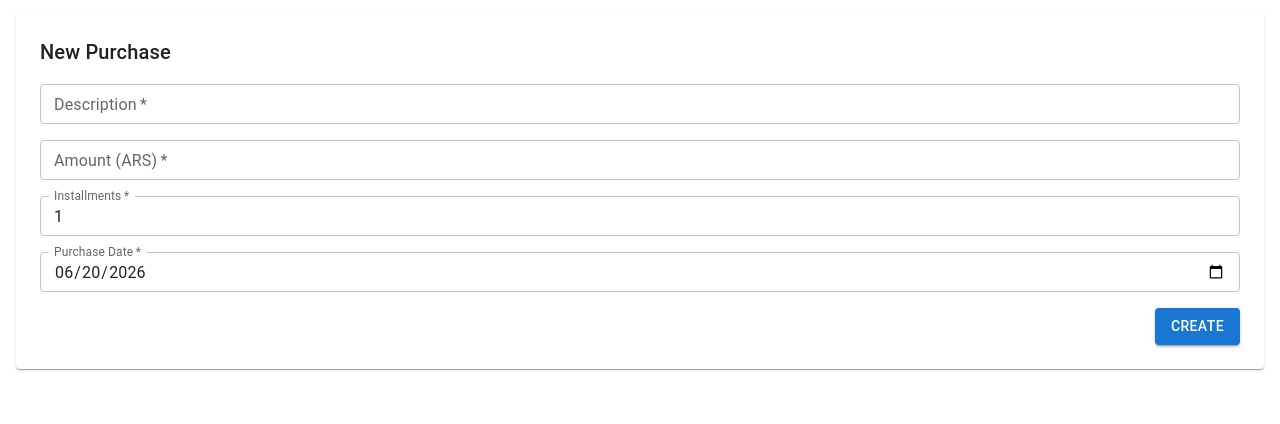
Scenario: PurchaseForm › shows validation error for invalid amount
Type "Test" into the field labelled "Description *" at point(640, 104), box [40,84,1240,124]
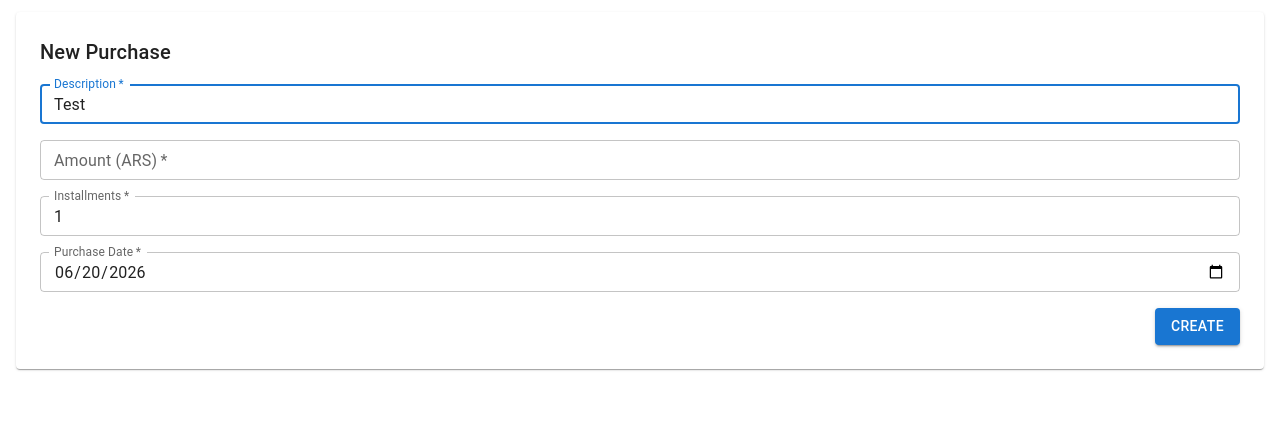
Type "-10" into the number field labelled "Amount (ARS) *" at point(640, 160), box [40,140,1240,180]
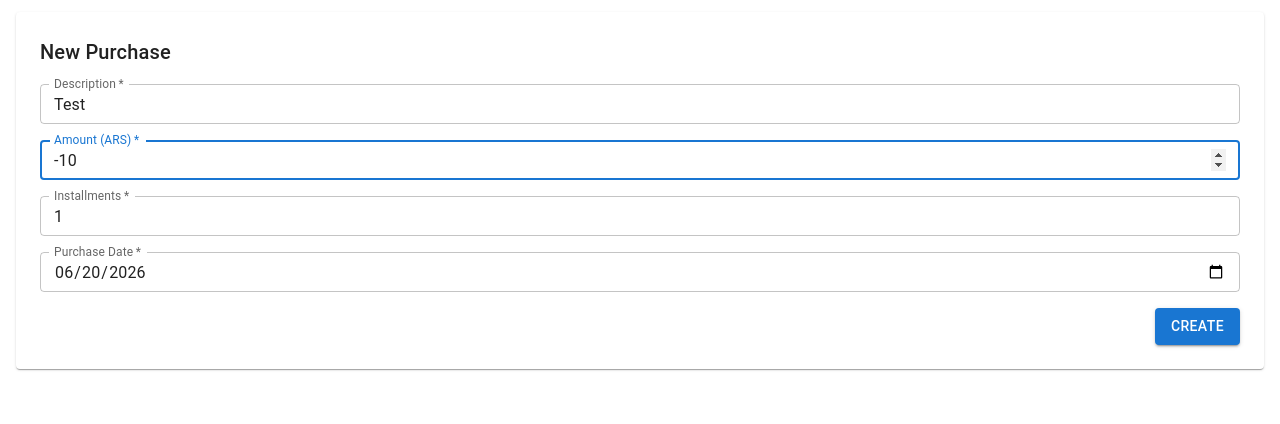
Click the button "Create" at point(1197, 326), box [1155,308,1240,344]
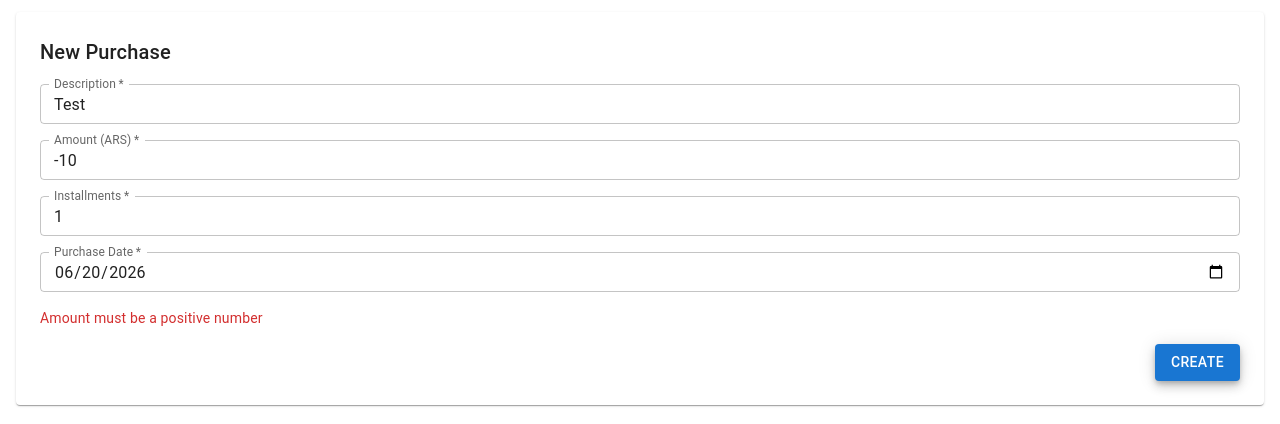
Result: the text "Amount must be a positive number" is shown at [40,310,263,326]
